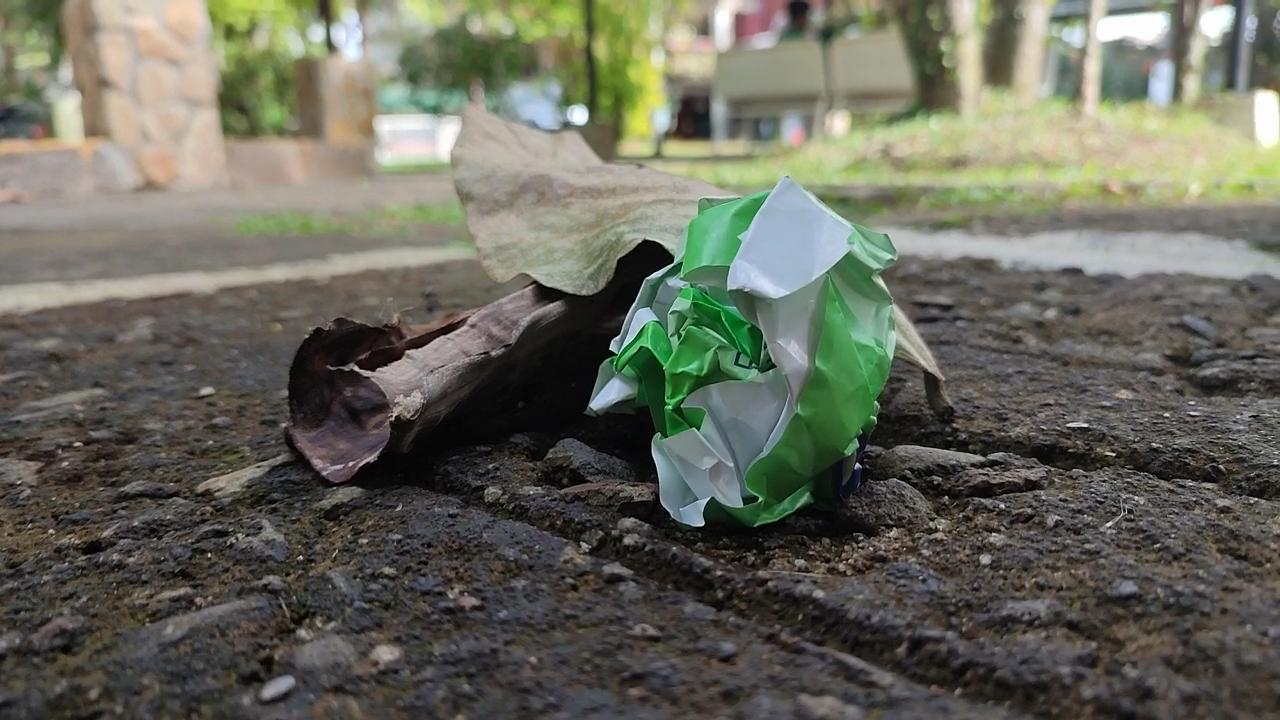Paper: (585, 163, 909, 549)
